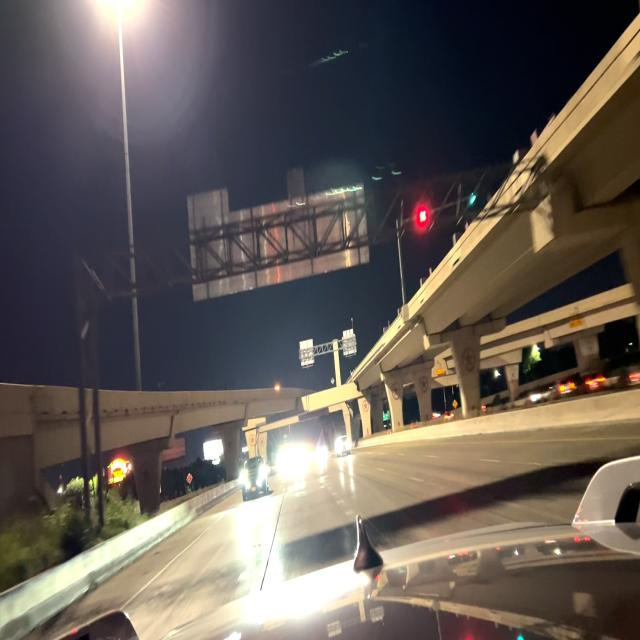back-of-sign: (185, 190, 369, 301), (189, 186, 229, 216), (289, 169, 305, 199)
